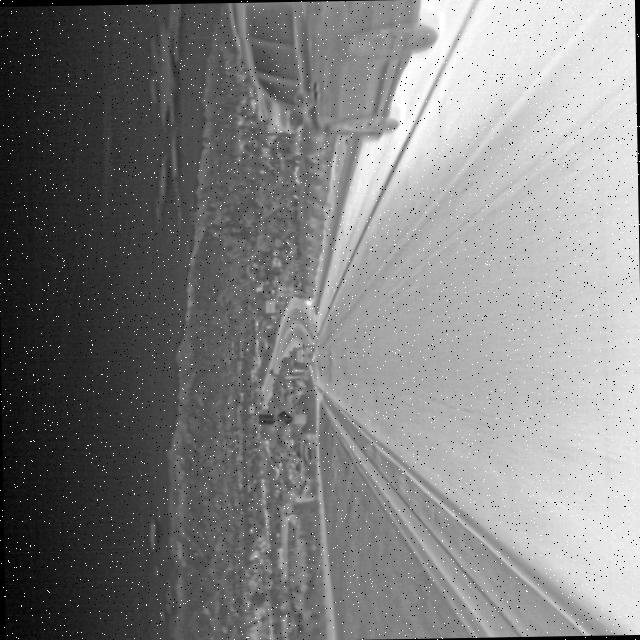Vehicle: (224, 0, 440, 145), (290, 339, 320, 368), (294, 431, 320, 464)
